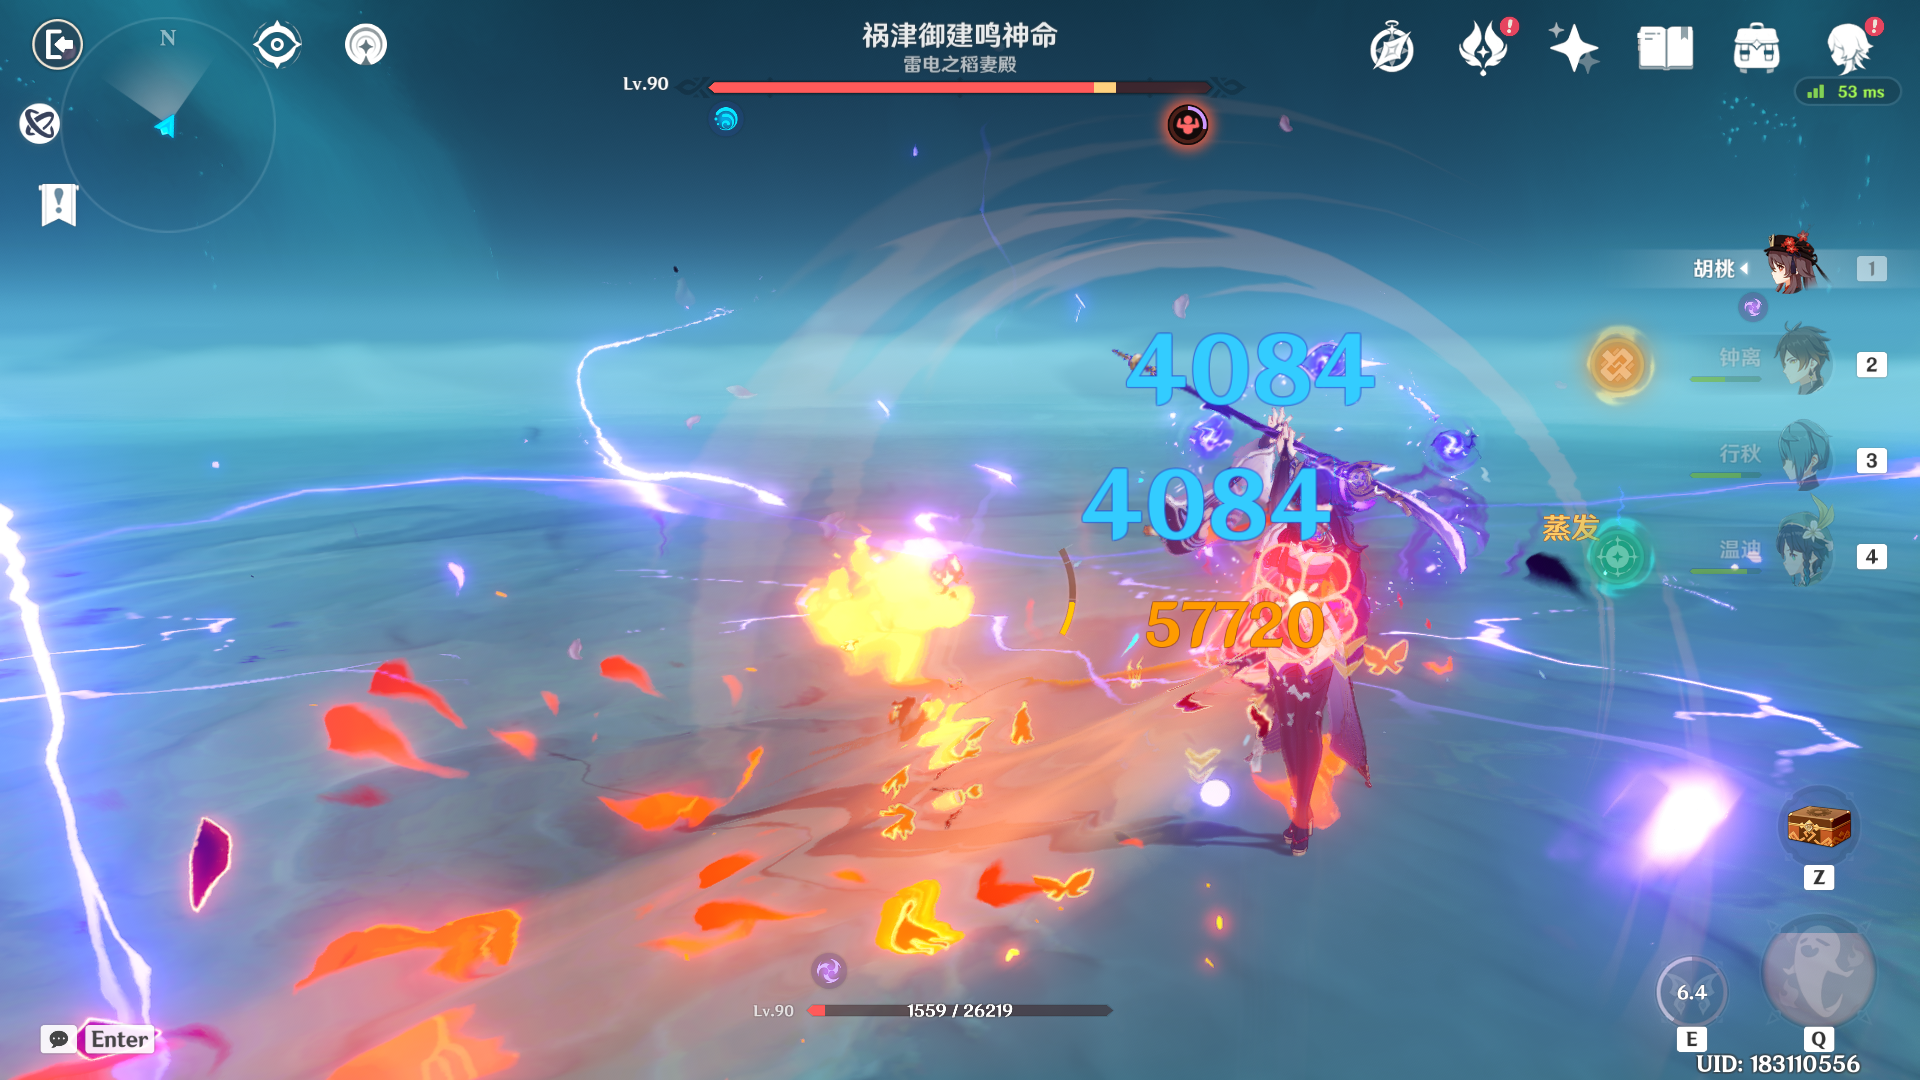character: (1178, 429, 1419, 910)
